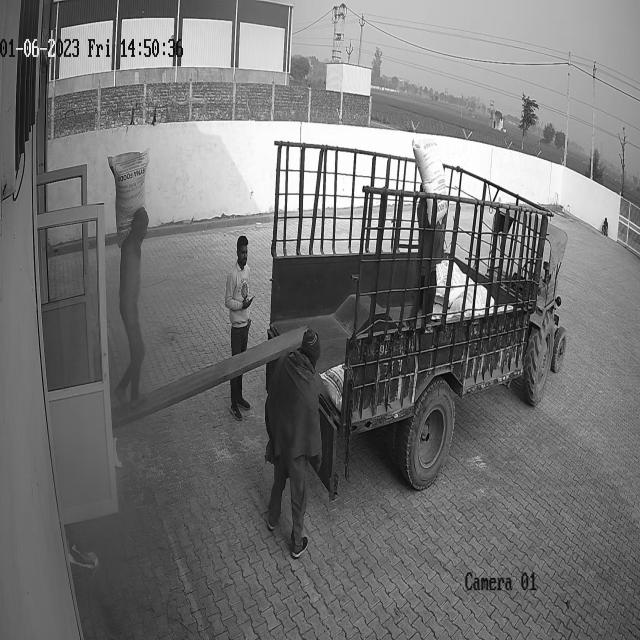sack: (107, 148, 150, 244)
